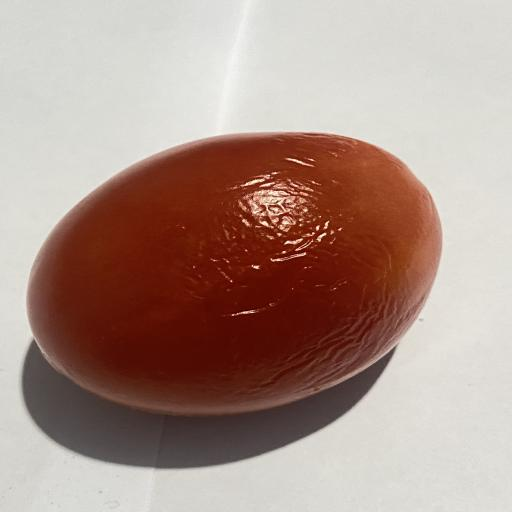spoiled: (27, 133, 441, 415)
